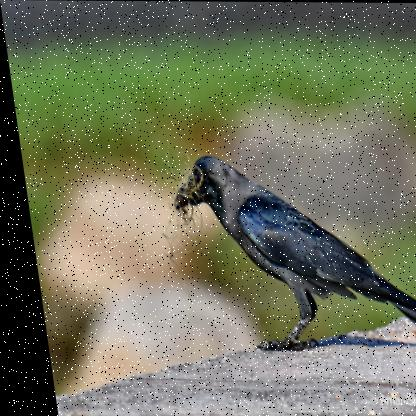Burung: (162, 154, 415, 352)
